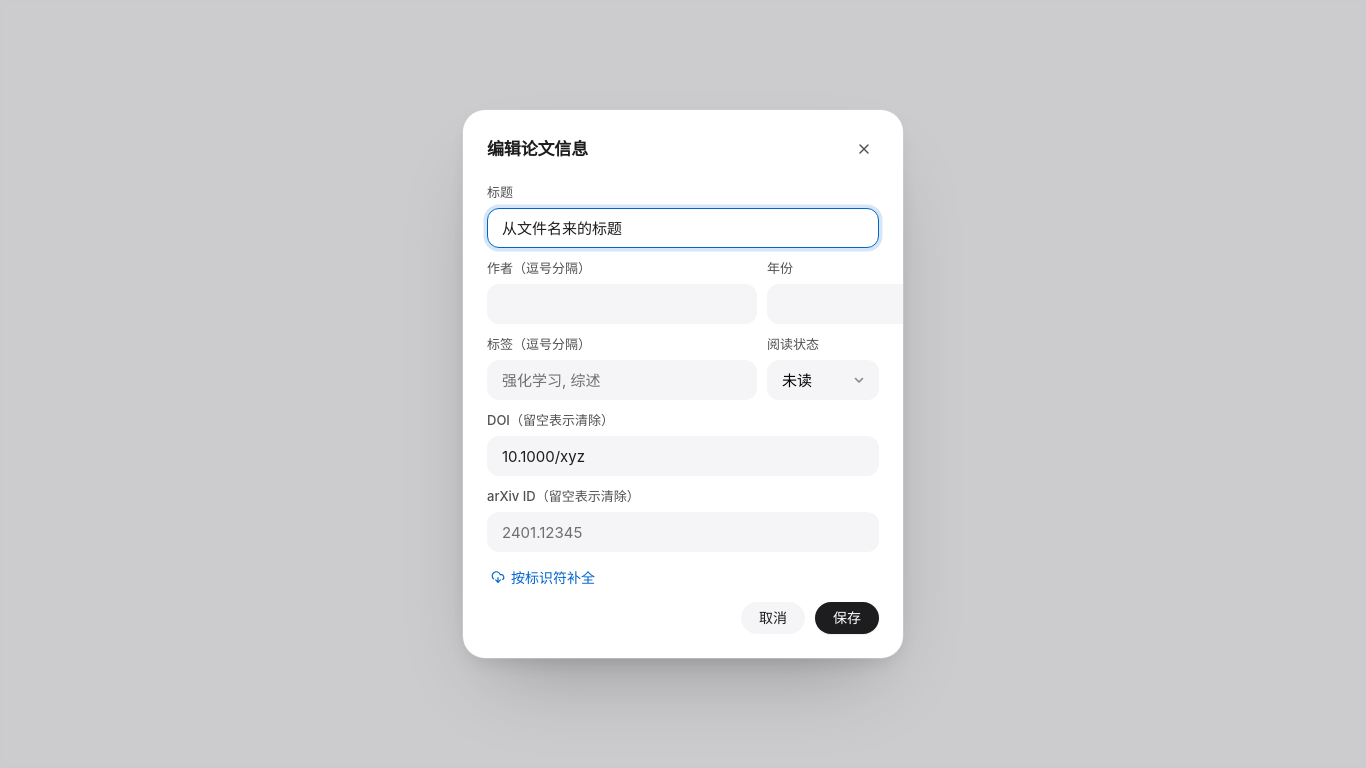
Test: EditPaperDialog registry lookup › explains a miss without touching anything
The width and height of the screenshot is (1366, 768).
Click the button "按标识符补全" at (543, 577), box x1=487 y1=562 x2=599 y2=592
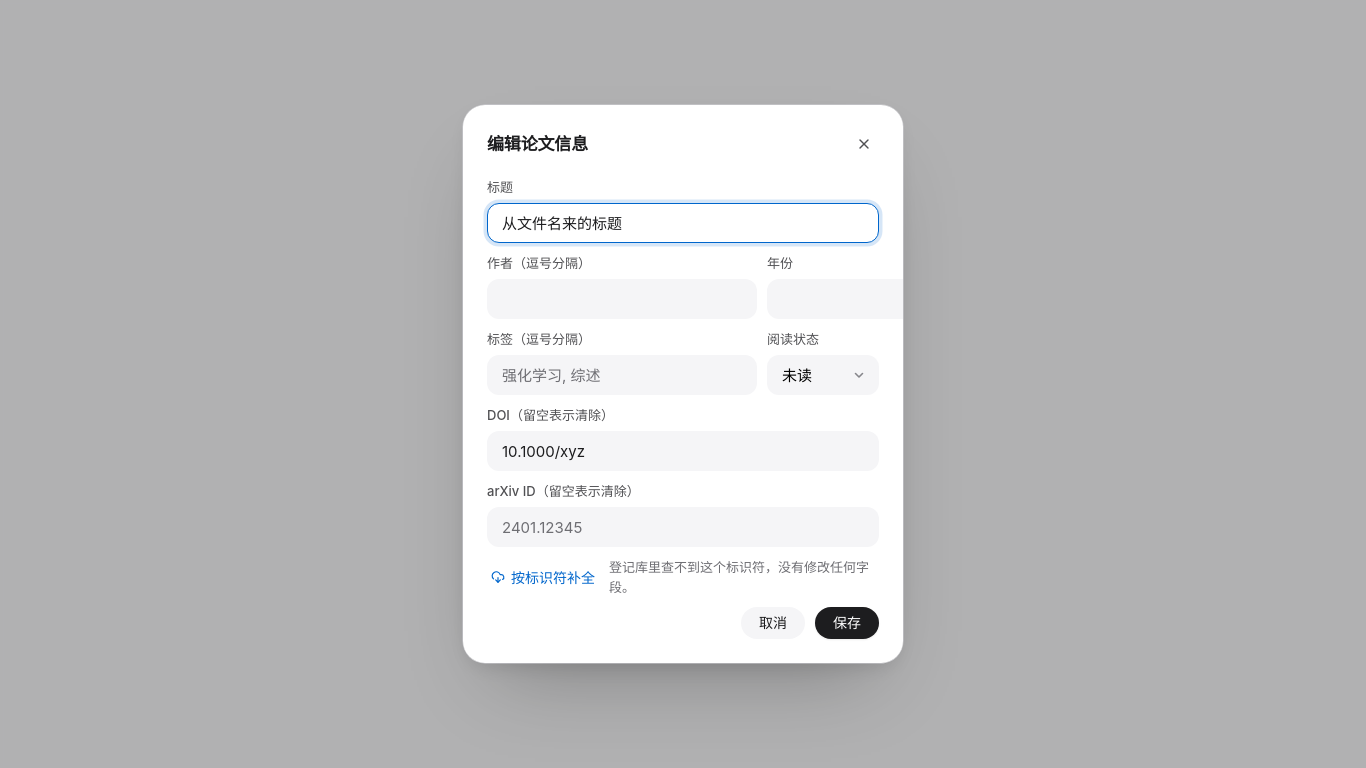
Now the message shows "查不到", box x1=609 y1=557 x2=879 y2=598
